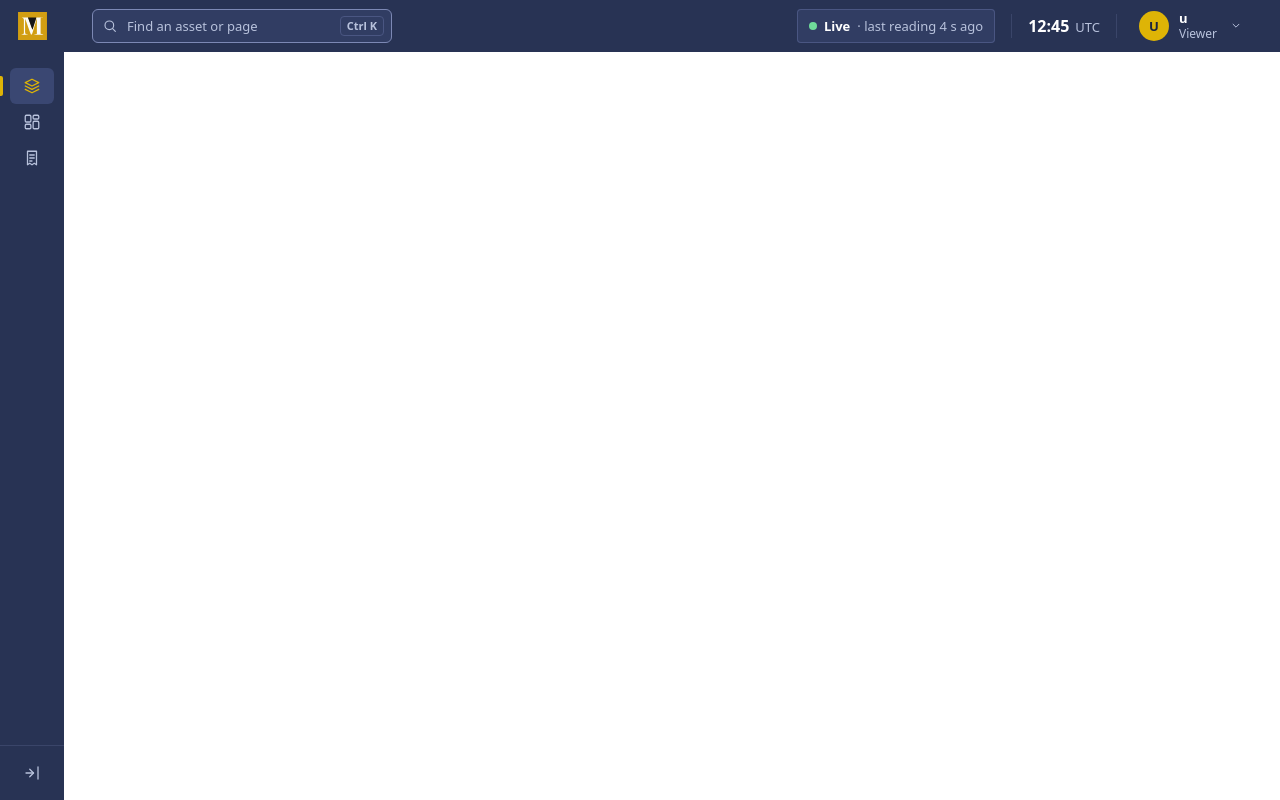
Test: Layout top bar › opens a panel under the user's button with Password and Sign out, which the sidebar no longer holds
Click the button "U u Viewer": {"x": 1192, "y": 26} x1=1133 y1=6 x2=1252 y2=46
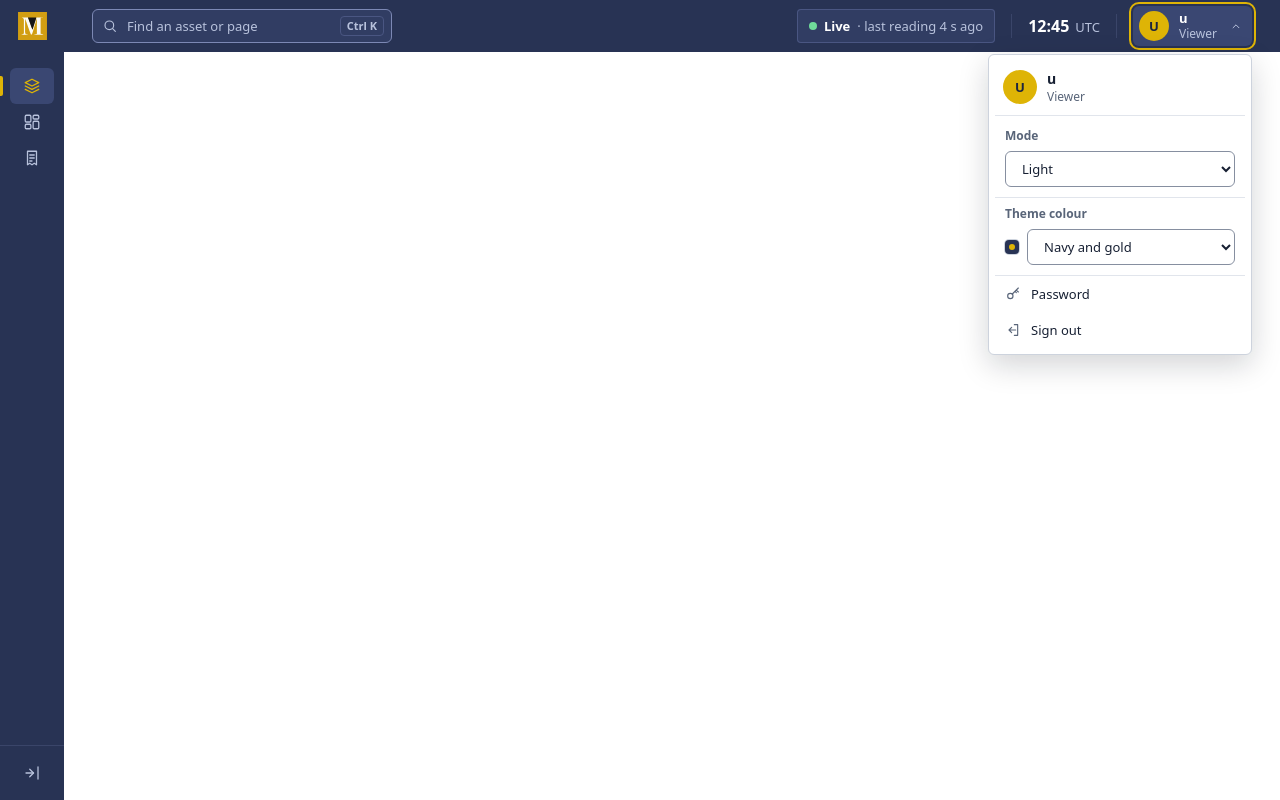
expect the button "Sign out" is shown: met, box x1=995 y1=312 x2=1245 y2=348
